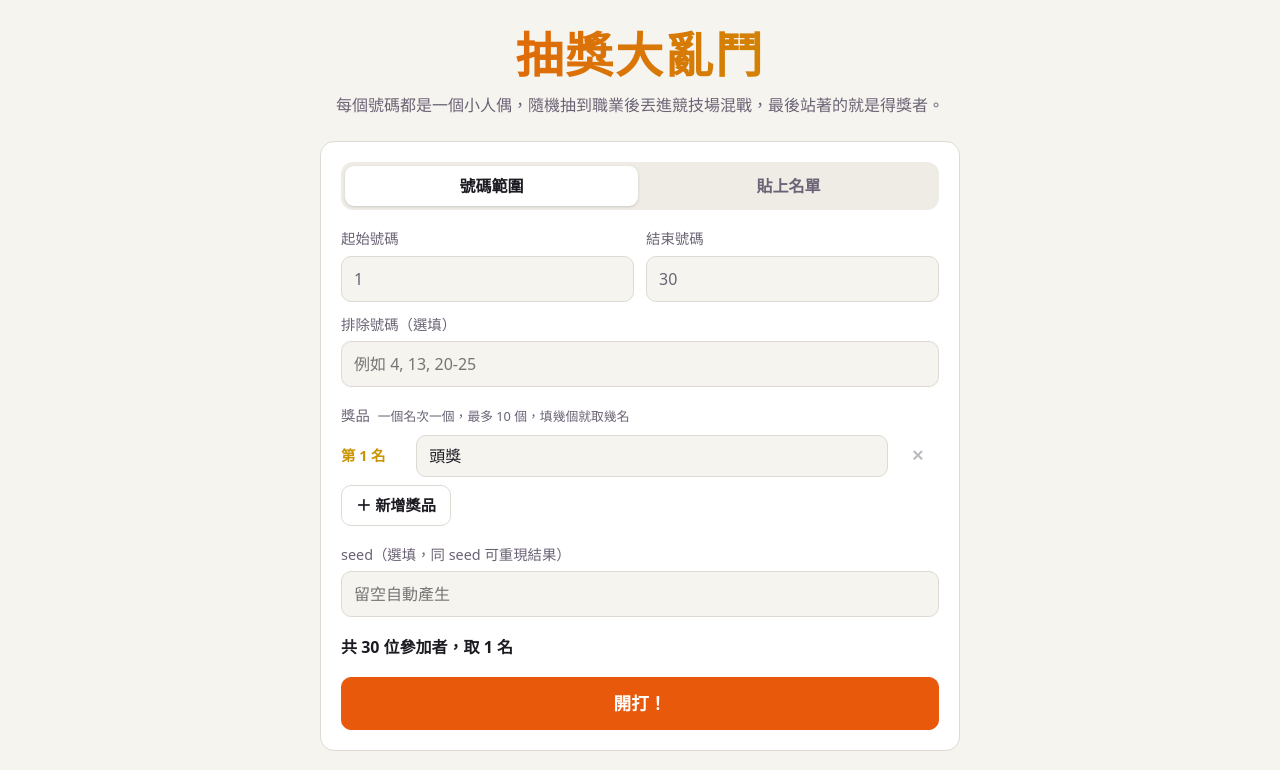
Scenario: App flow › goes setup → battle → result → history under StrictMode
Click the button "開打！" at (640, 703), box [341, 677, 939, 730]
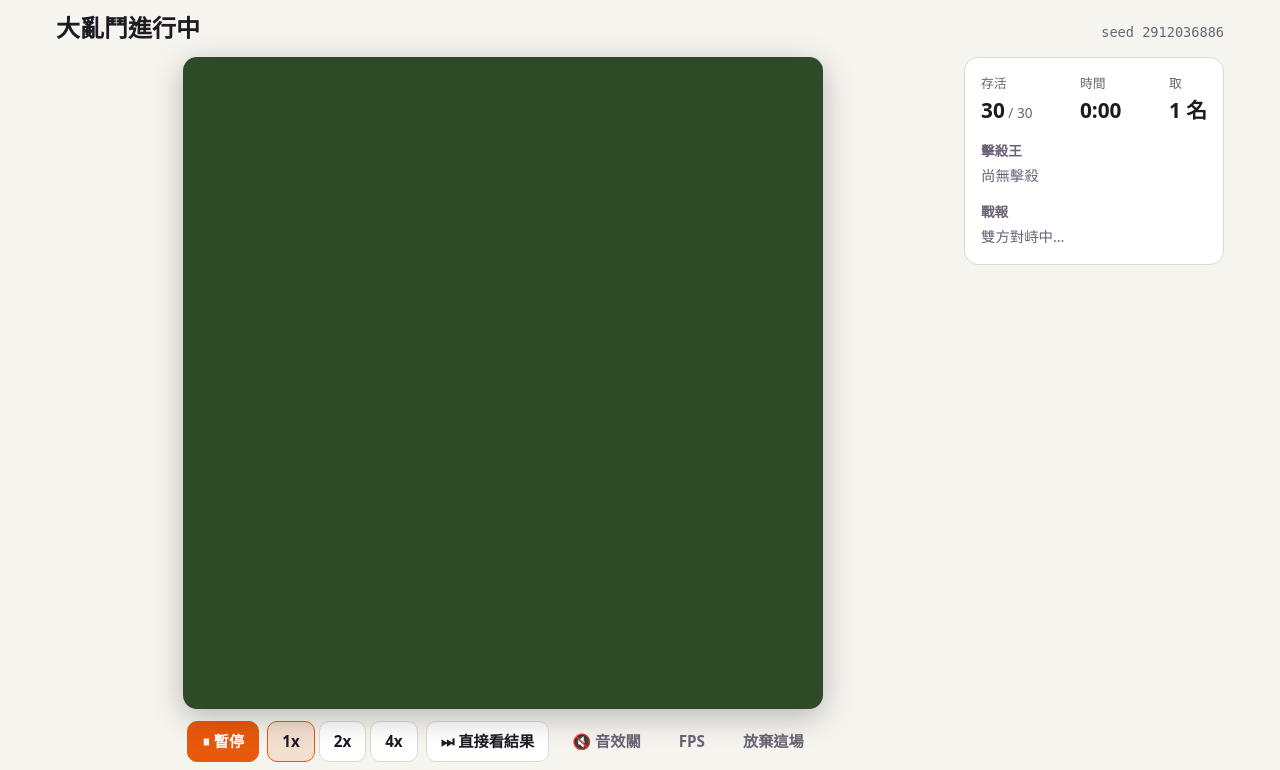
Expected: the heading "大亂鬥進行中" is shown, [56, 13, 200, 43]
Click the button "⏭ 直接看結果" at (487, 742), box [426, 721, 549, 762]
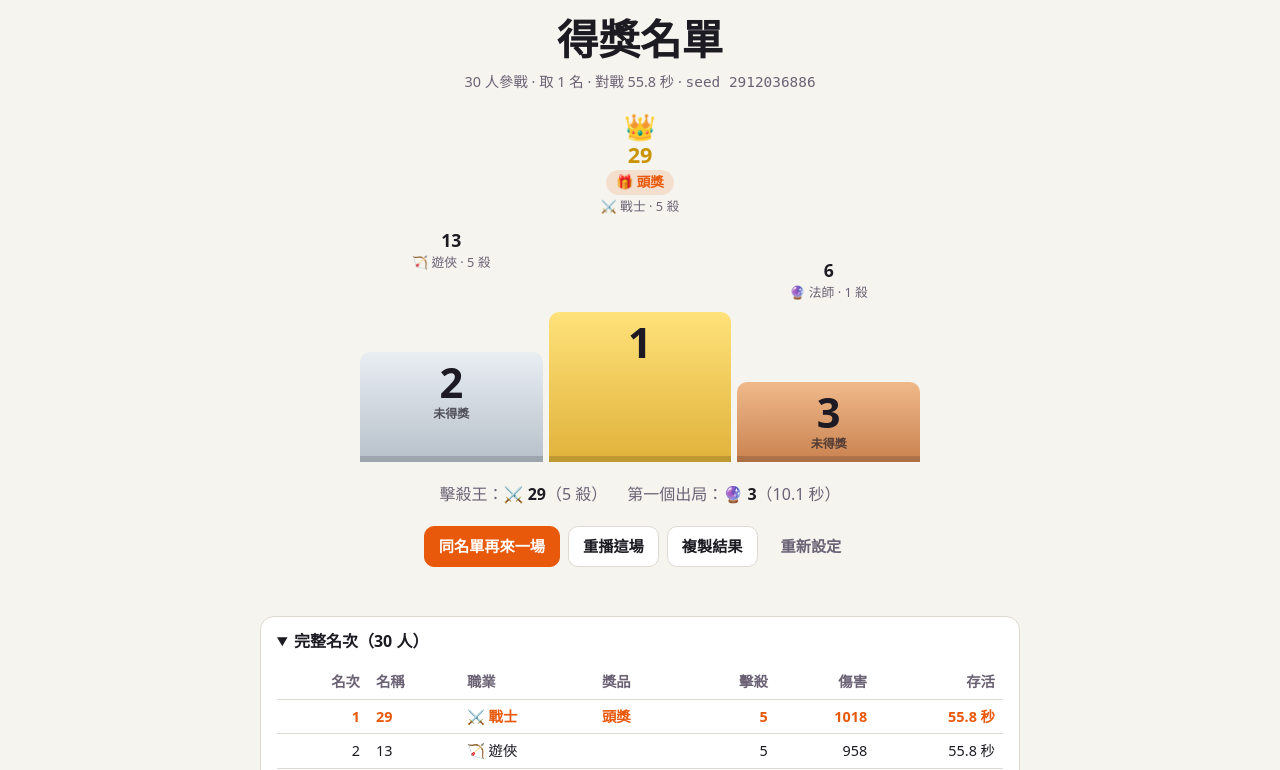
Expected: the heading "得獎名單" is shown, [557, 11, 723, 67]
Click the button "重新設定" at (811, 546), box [766, 526, 856, 567]
(page scrolled)
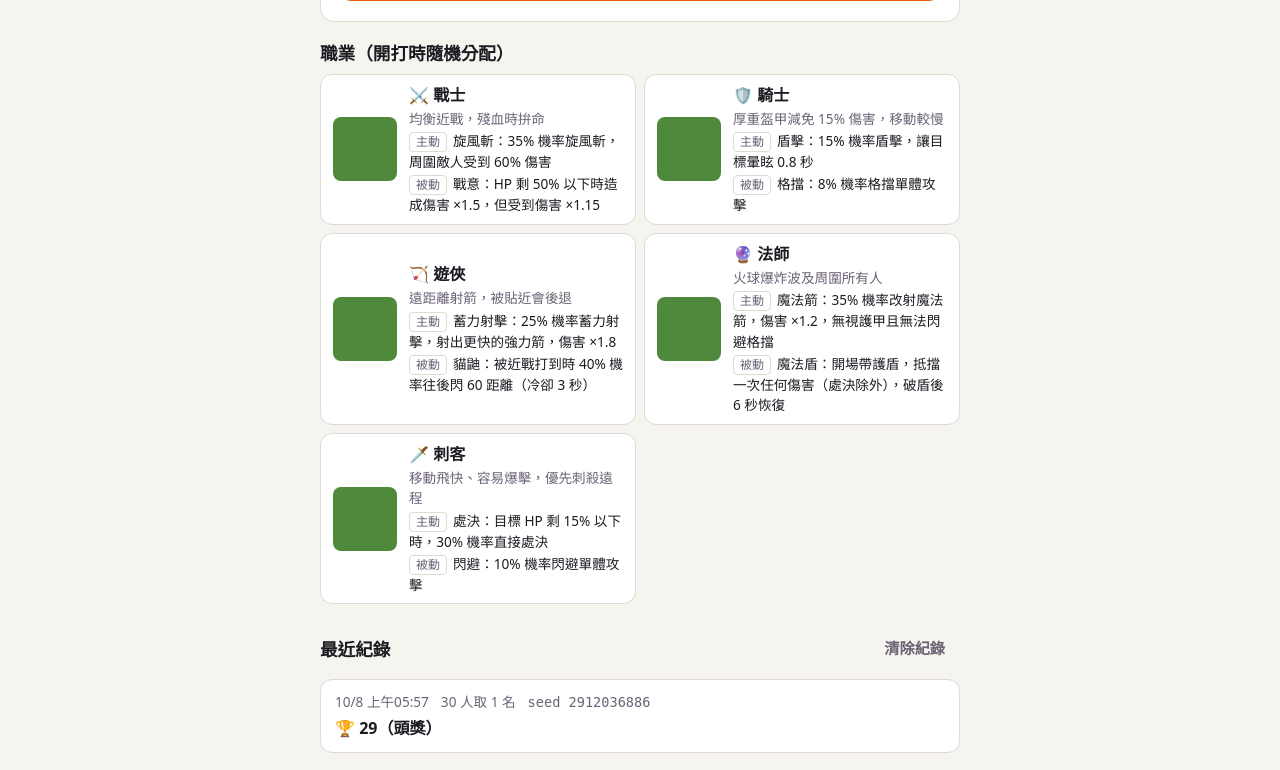
Expected: the text "30 人取 1 名" is shown, [441, 692, 516, 712]
